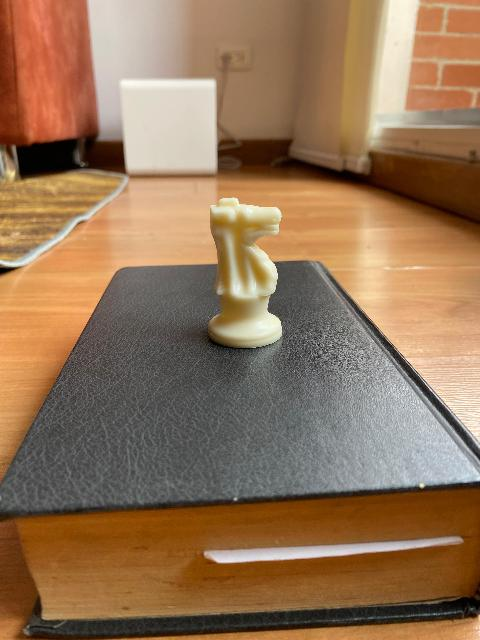white-knight: (206, 195, 284, 348)
